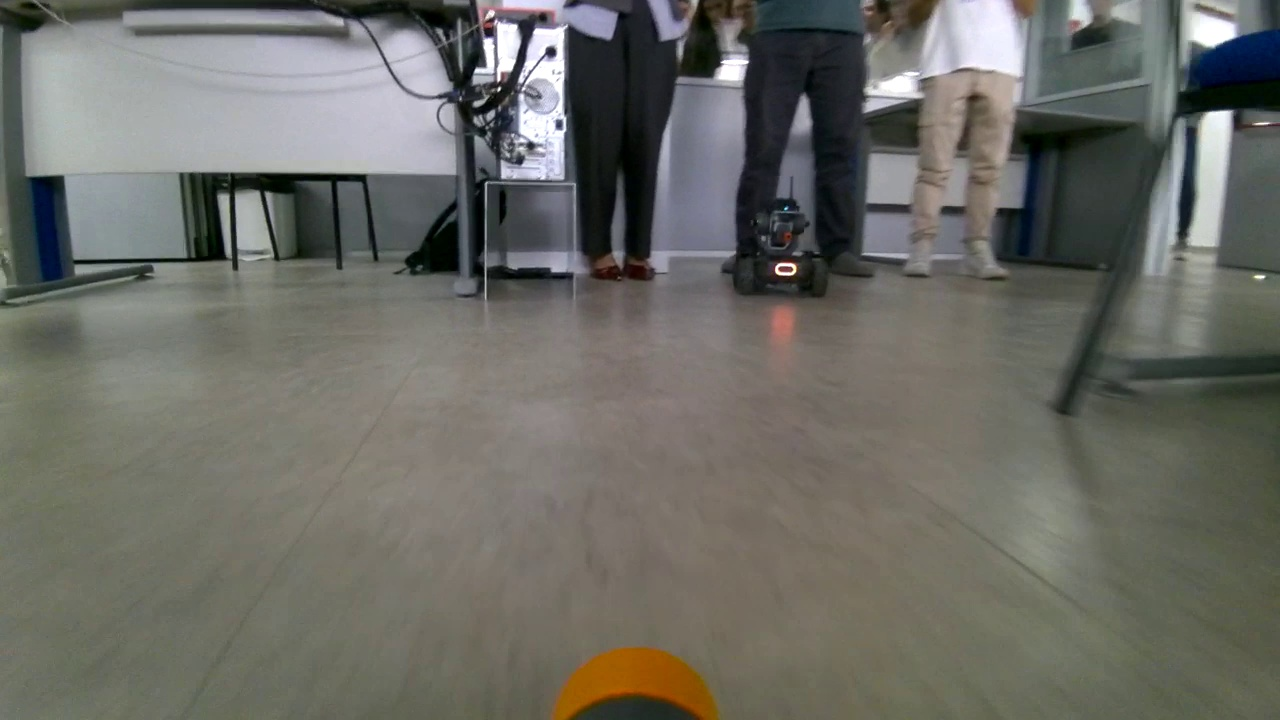robot: (724, 172, 833, 300)
